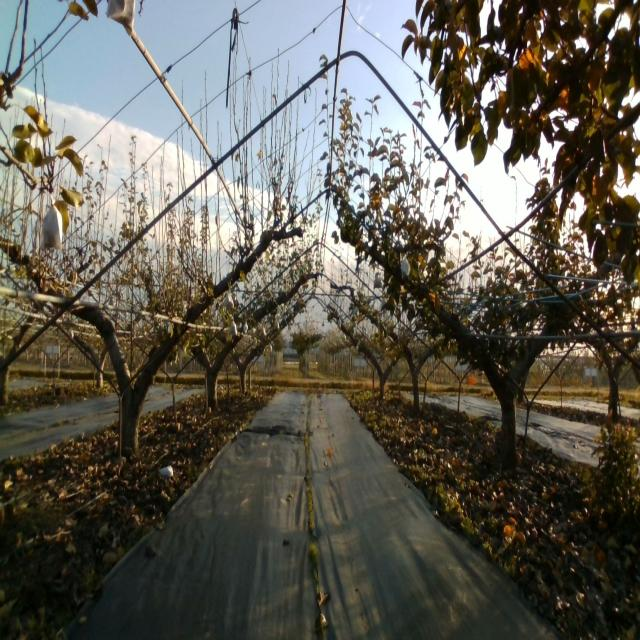pearbags: (40, 199, 63, 251)
